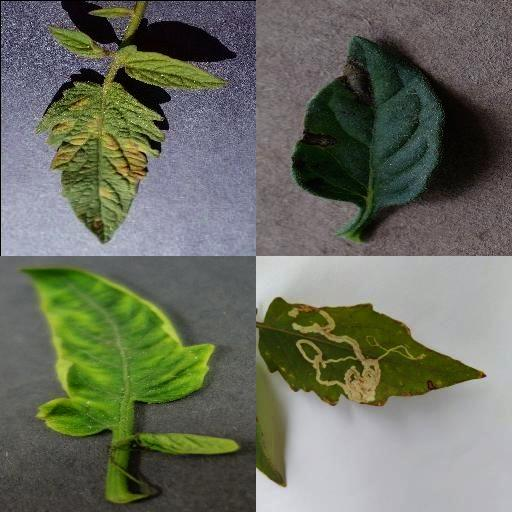Early Blight: (293, 35, 449, 207)
Healthy: (122, 45, 225, 90)
Leaf Miner: (256, 296, 489, 409)
Leaf Mold: (33, 80, 166, 246)
Yellow Leaf Curl Virus: (22, 267, 216, 437), (138, 431, 242, 455)
